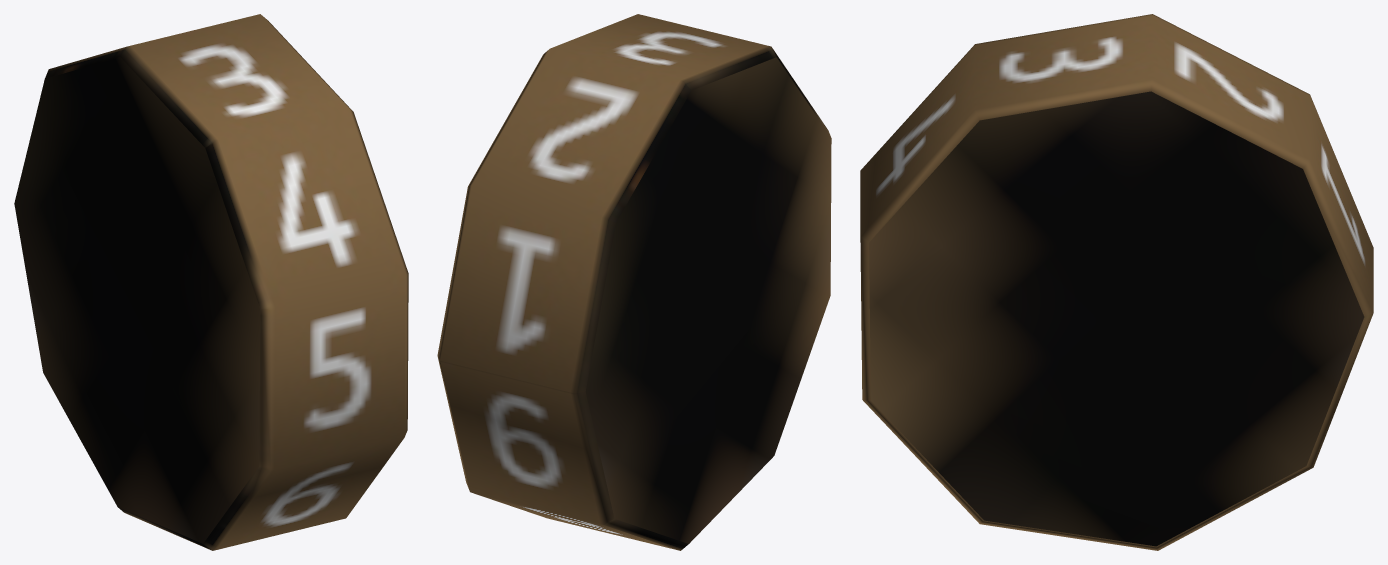
The model's file is puzzleLockWheel_model.glb.
The picture shows the model from 3 angles, left to right: view 1: azimuth 30°, elevation 25°; view 2: azimuth 150°, elevation 25°; view 3: azimuth 270°, elevation 25°; orthographic projection.
Parts seen in each view (by area): view 1: puzzle_4_lockwheel; view 2: puzzle_4_lockwheel; view 3: puzzle_4_lockwheel.
Boxes of the visible parts, box(x1,y1,x2,y2) form: puzzle_4_lockwheel: box(14, 14, 408, 550); puzzle_4_lockwheel: box(437, 14, 831, 550); puzzle_4_lockwheel: box(860, 14, 1373, 550).
Size of what is drawn, in the model's own units: 0.1811 by 0.5462 by 0.5388.
Materials: 1 (1 with a texture image).
